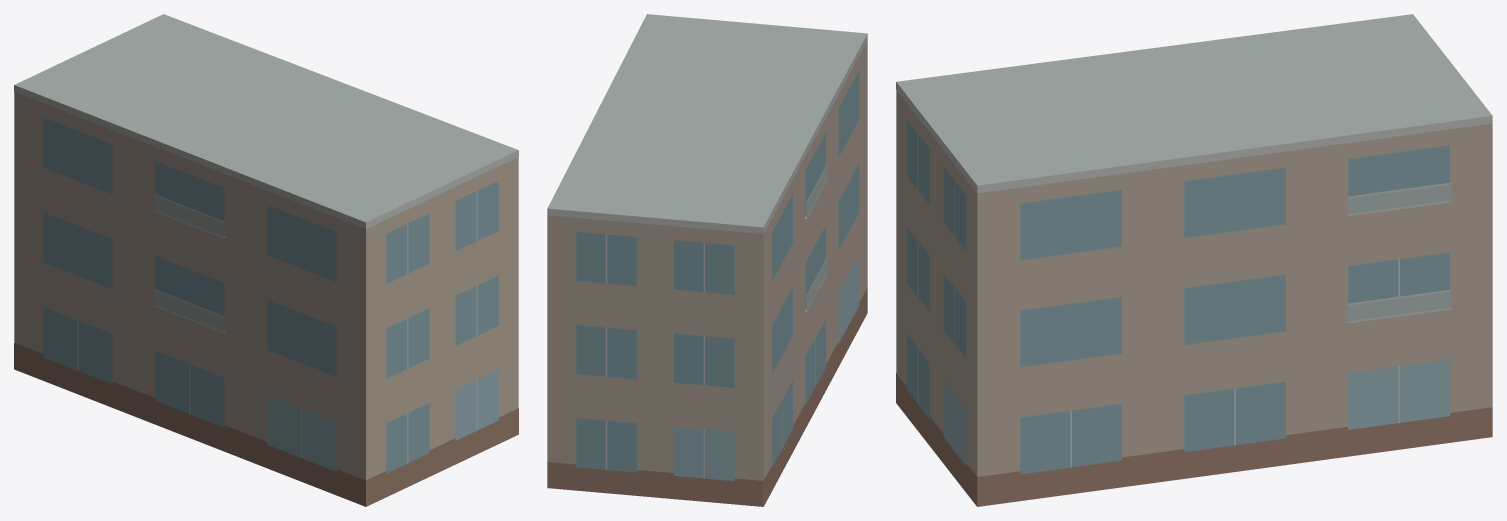
File: survey-upis-32962019.glb
3 renders of one model, left to right at view 1: azimuth 30°, elevation 25°; view 2: azimuth 150°, elevation 25°; view 3: azimuth 270°, elevation 25°, orthographic. The views are drawn at different scales.
Parts seen in each view (by area): view 1: survey-upis-32962019.tmp; view 2: survey-upis-32962019.tmp; view 3: survey-upis-32962019.tmp.
Boxes of the visible parts, x1,y1,x2,y2 form: survey-upis-32962019.tmp: (14,14,518,506); survey-upis-32962019.tmp: (547,14,867,506); survey-upis-32962019.tmp: (896,14,1492,506).
Bounding box in the file's own units: 11.7 × 10.2 × 17.18.
